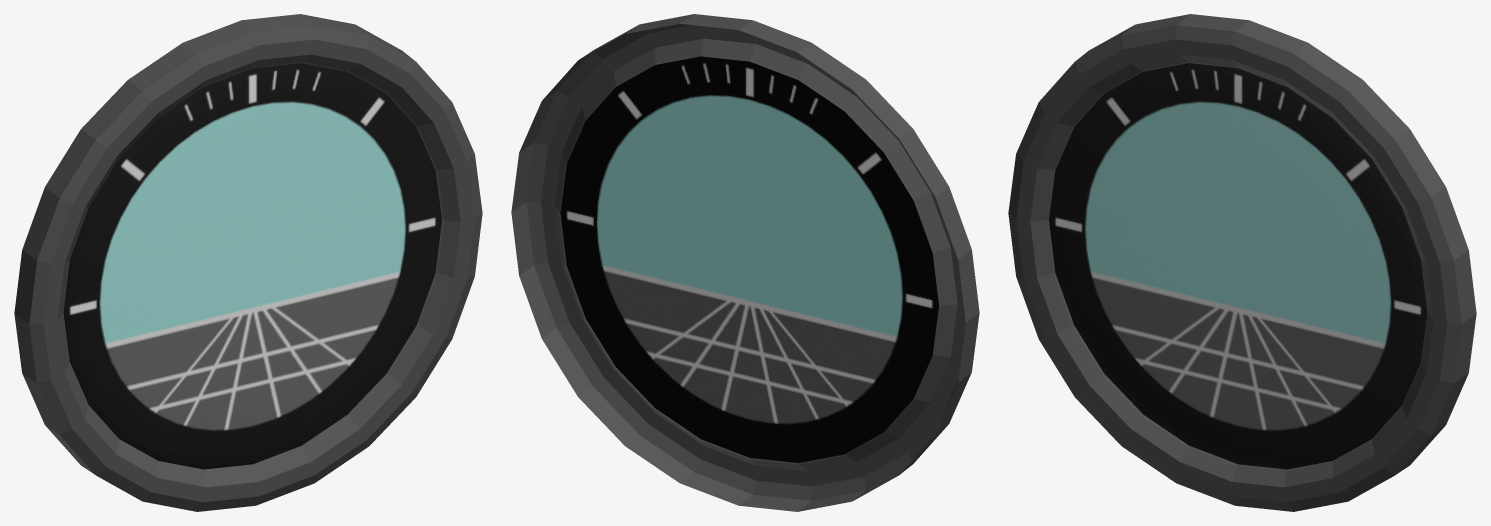
File: Gauge_Level.obj
The picture shows the model from 3 angles, left to right: view 1: azimuth 30°, elevation 25°; view 2: azimuth 150°, elevation 25°; view 3: azimuth 330°, elevation 25°; orthographic projection.
Visible parts, largest first — view 1: Face, Rim; view 2: Face, Rim; view 3: Face, Rim.
Part boxes in pixels (bbox=[...]): Face: bbox=[63, 63, 441, 469]; Rim: bbox=[14, 14, 482, 511]; Face: bbox=[560, 56, 938, 462]; Rim: bbox=[511, 14, 979, 511]; Face: bbox=[1049, 63, 1427, 469]; Rim: bbox=[1008, 14, 1476, 511].
Size of the model in its own units: 0.0822 by 0.0822 by 0.00794.
